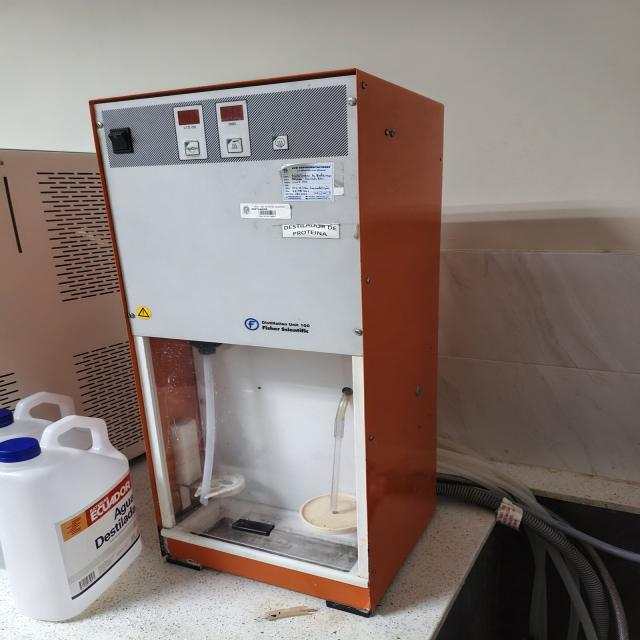Destilador por Arrastre de Vapor tipo Kjeldahl: (91, 69, 443, 614)
